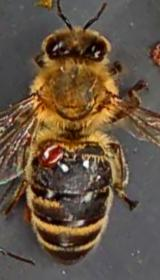varroa_mite: (38, 134, 74, 164)
